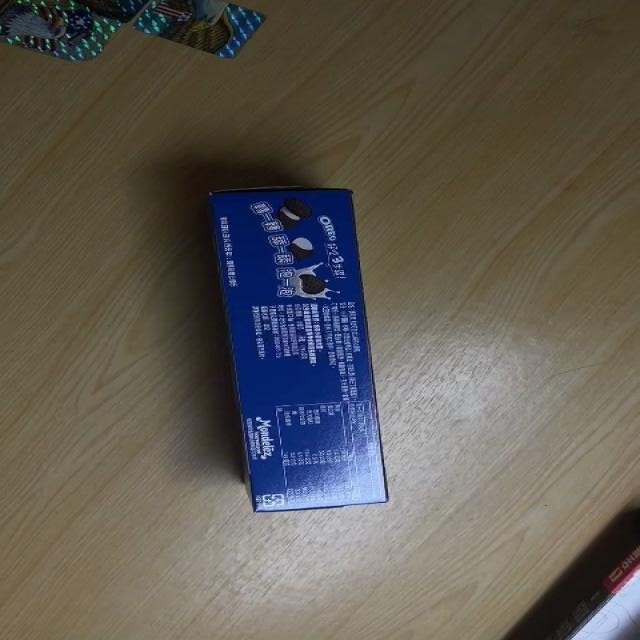Oreo: (210, 188, 391, 515)
